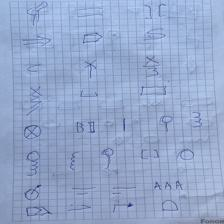aptamer: (27, 2, 48, 22)
assembly-scar: (77, 8, 103, 17)
blunt-restriction-site: (143, 3, 168, 19)
cds: (82, 33, 103, 43)
cds-arrow: (23, 35, 51, 46)
chromosomal-locus: (144, 28, 166, 40)
circular-plasmid: (26, 63, 42, 73)
composite: (81, 89, 98, 97)
engineered-region: (141, 86, 166, 94)
five-prime-overhang: (73, 187, 95, 195)
inert-dna-spacer: (24, 125, 41, 138)
intron: (77, 122, 95, 133)
location-dna: (161, 116, 172, 131)
location-dna-no-top: (123, 118, 126, 131)
location-protein: (27, 151, 39, 175)
location-protein-no-top: (193, 112, 202, 128)
location-rna: (103, 148, 113, 170)
location-rna-no-top: (70, 152, 78, 171)
no-glyph-assigned: (141, 148, 159, 159)
nuclease-site: (84, 60, 96, 78)
origin-of-replication: (180, 149, 193, 160)
origin-of-transfer: (25, 184, 40, 200)
polyA: (154, 181, 183, 190)
polypeptide-region: (26, 206, 51, 216)
primer-binding-site: (70, 204, 91, 211)
promoter: (114, 202, 133, 214)
protease-site: (144, 56, 161, 77)
ribonuclease-site: (29, 86, 41, 115)
ribosome-entry-site: (162, 200, 179, 211)
three-prime-overhang: (112, 187, 136, 194)
